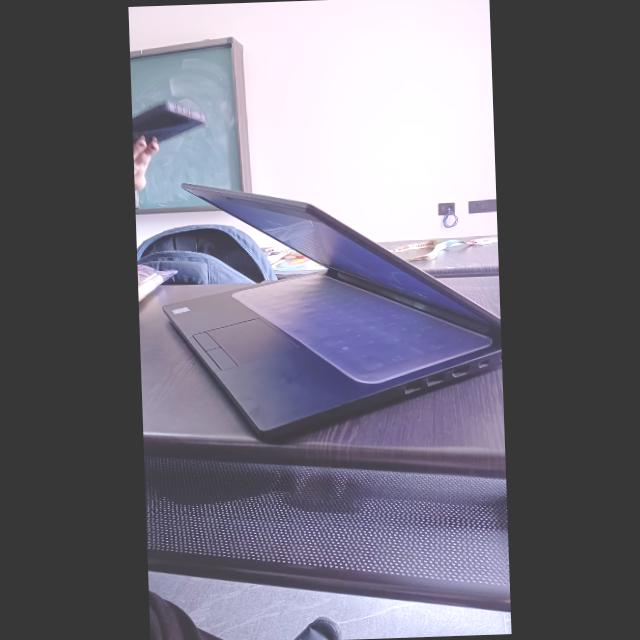laptop: (134, 167, 500, 443)
